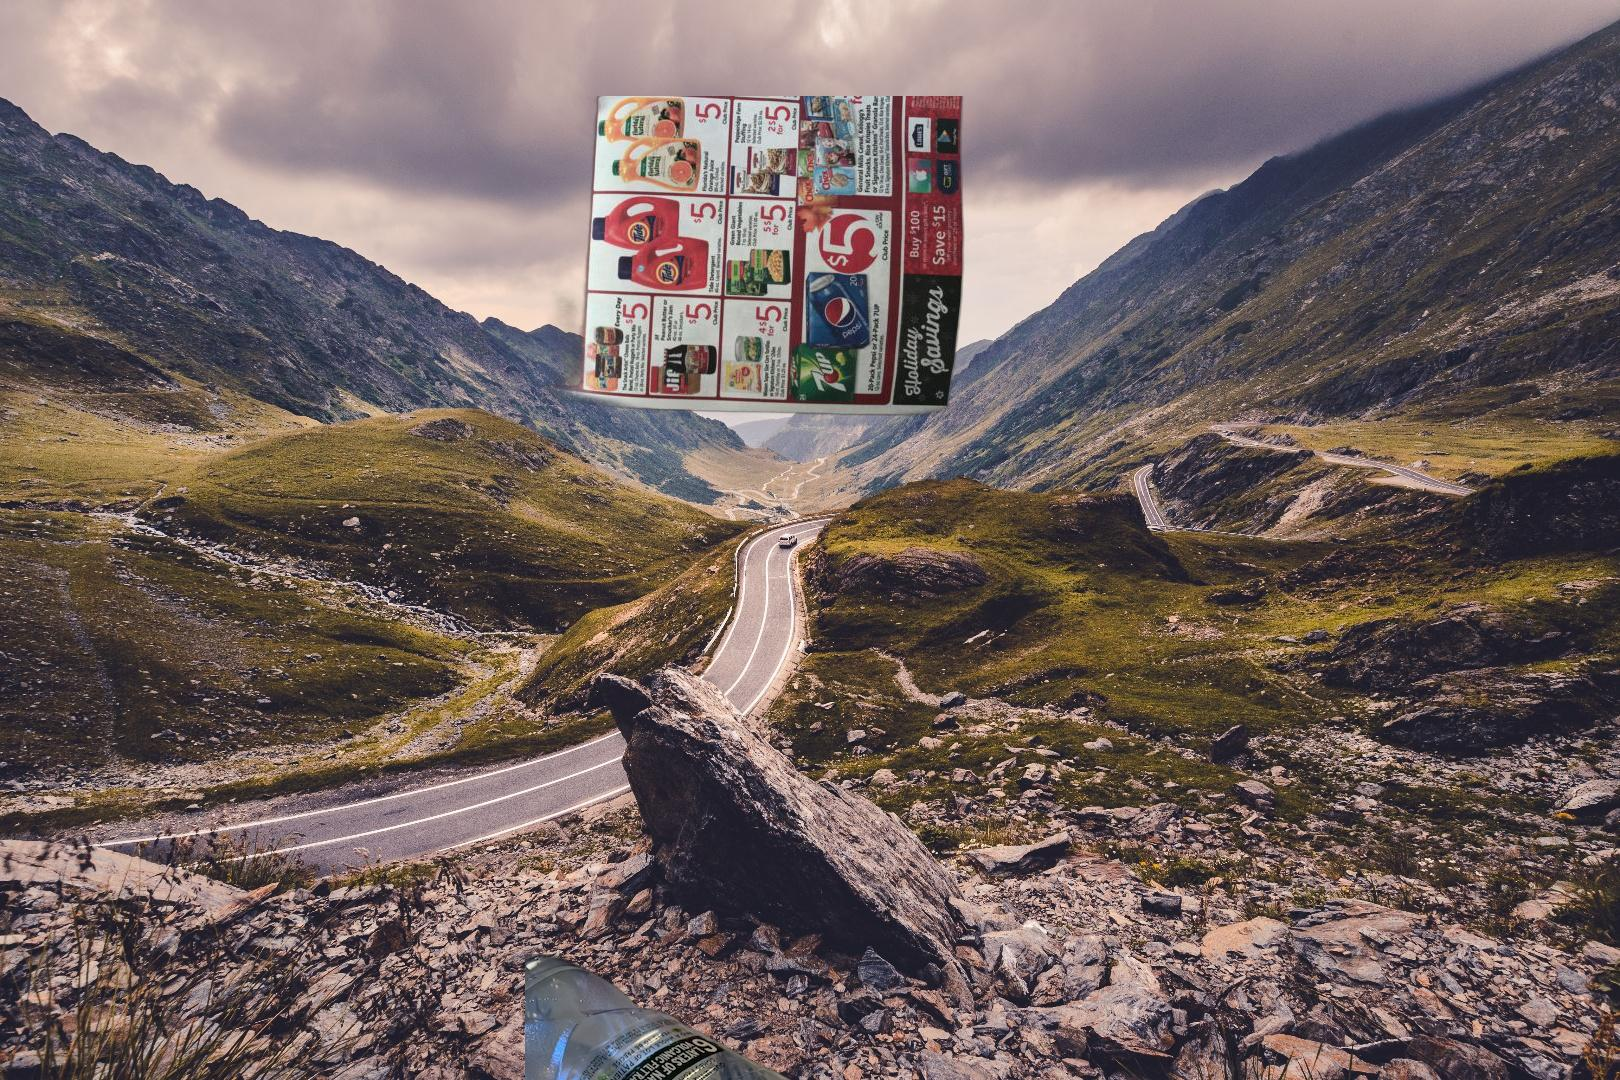paper: (540, 96, 968, 468)
plastic-bottles: (526, 953, 909, 1080)
